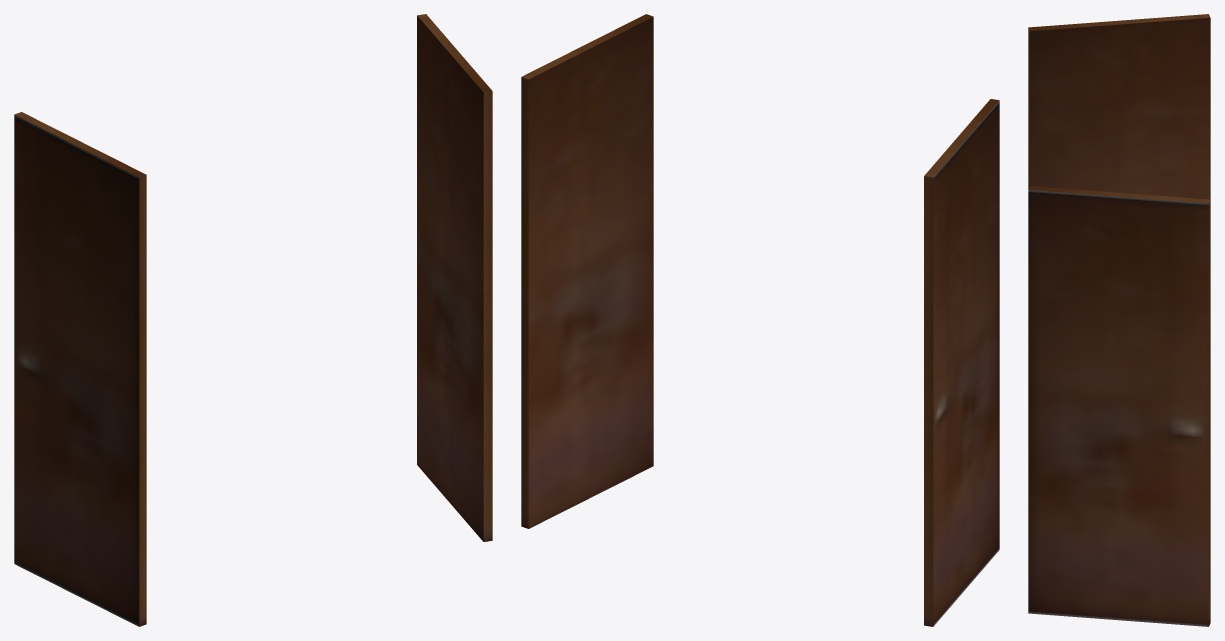
File: open.obj
3 views of the same model, side by side, from view 1: azimuth 30°, elevation 25°; view 2: azimuth 150°, elevation 25°; view 3: azimuth 270°, elevation 25° (orthographic). The views are drawn at different scales.
Parts seen in each view (by area): view 1: Ноль_объект.2; view 2: Ноль_объект.2; view 3: Ноль_объект.2.
Boxes of the visible parts, x1,y1,x2,y2 form: Ноль_объект.2: (14,14,492,626); Ноль_объект.2: (521,14,999,626); Ноль_объект.2: (1028,14,1210,626).
Bounding box in the file's own units: 245 × 255 × 99.35.
